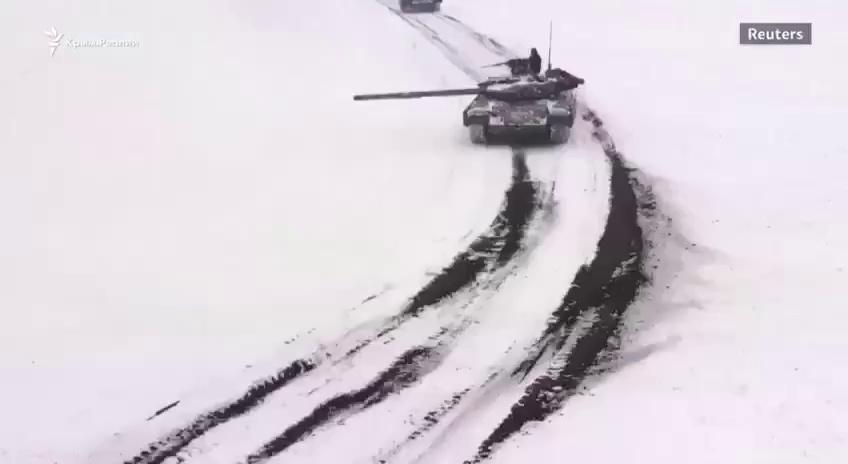tank: (353, 48, 584, 145)
